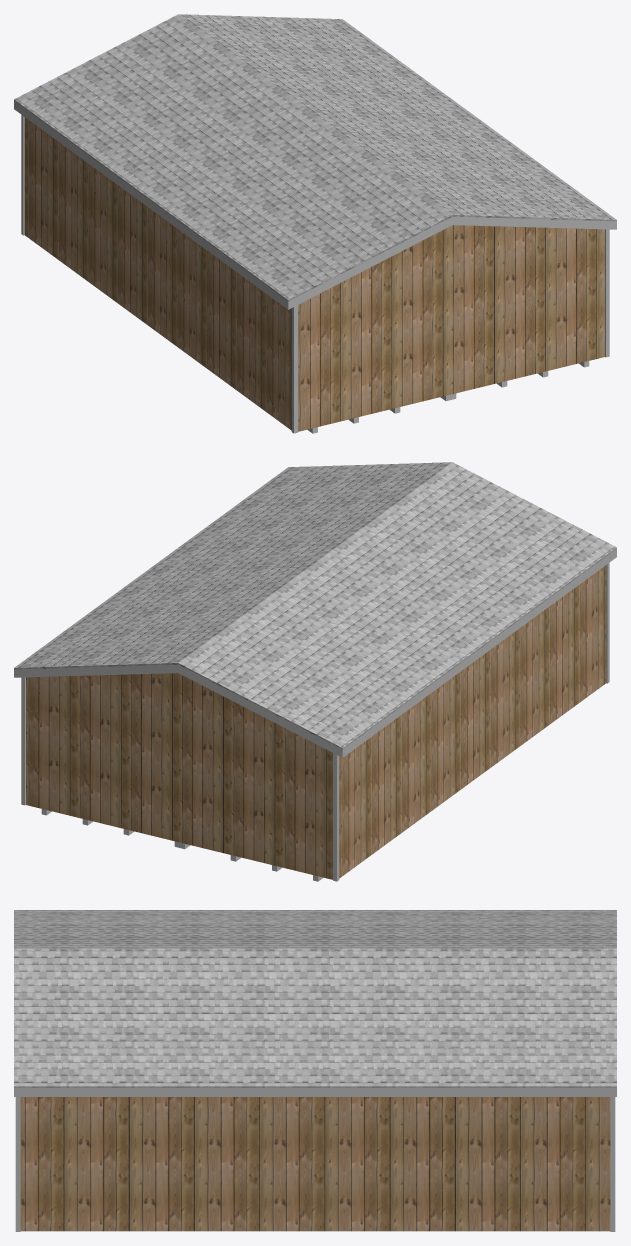
File: Double Garage 3-12 PITCH ROOF_20x30.obj
The picture shows the model from 3 angles, top to bottom: view 1: azimuth 30°, elevation 25°; view 2: azimuth 150°, elevation 25°; view 3: azimuth 270°, elevation 25°; orthographic projection. The views are drawn at different scales.
Parts seen in each view (by area): view 1: Roof, Shed, Sides, Trim; view 2: Roof, Shed, Sides, Trim; view 3: Roof, Shed, Sides, Trim.
Boxes of the visible parts, x1,y1,x2,y2 form: Roof: [14, 14, 616, 301]; Shed: [24, 117, 604, 431]; Sides: [14, 101, 616, 309]; Trim: [21, 115, 609, 433]; Roof: [14, 462, 616, 749]; Shed: [26, 565, 606, 879]; Sides: [14, 549, 616, 757]; Trim: [21, 563, 609, 881]; Roof: [14, 910, 616, 1087]; Shed: [20, 1097, 610, 1231]; Sides: [14, 1088, 616, 1096]; Trim: [15, 1097, 615, 1231].
Bounding box in the file's own units: 6.4 × 3.46 × 9.25.
